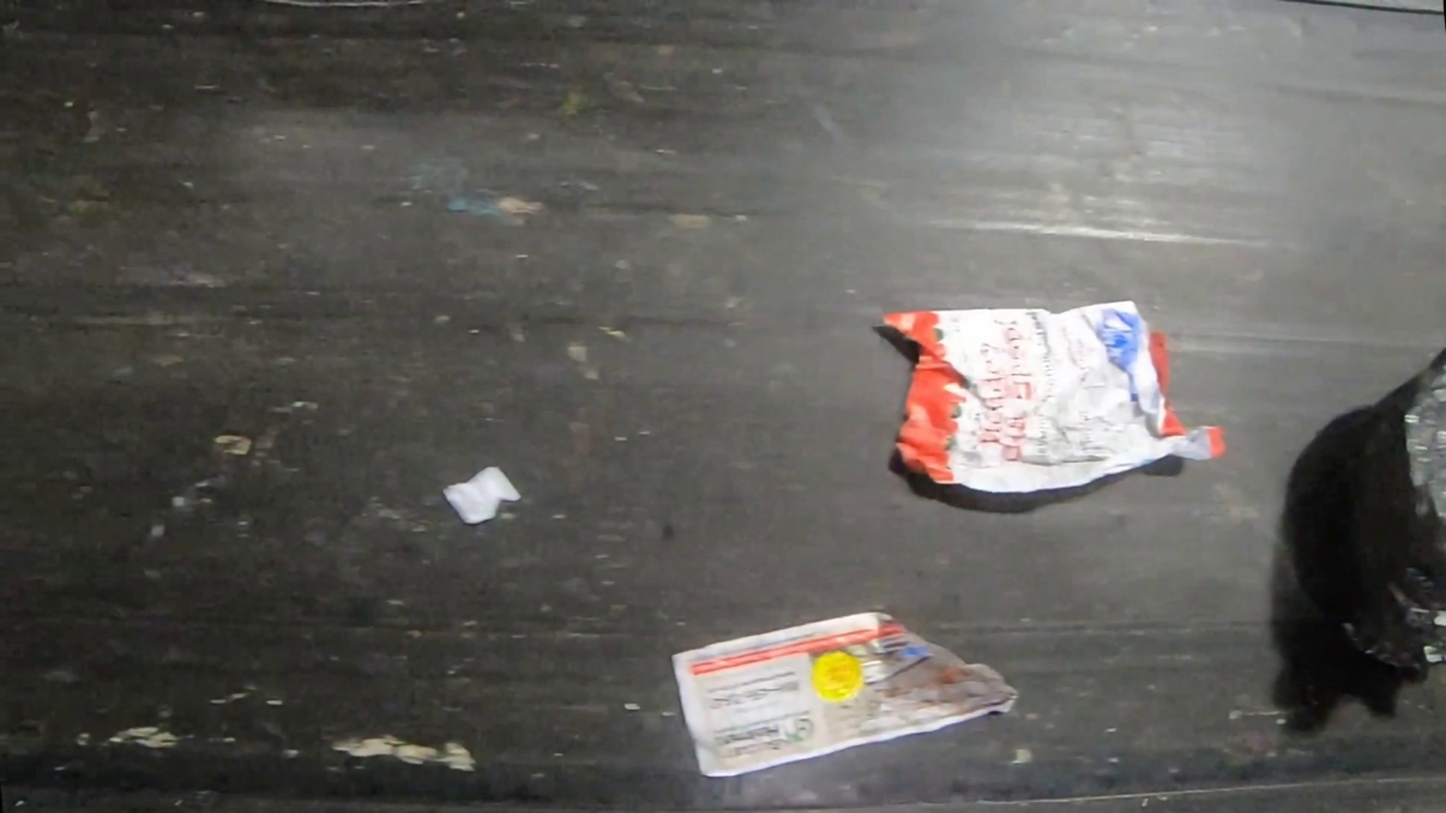plastic: (1348, 351, 1446, 669)
